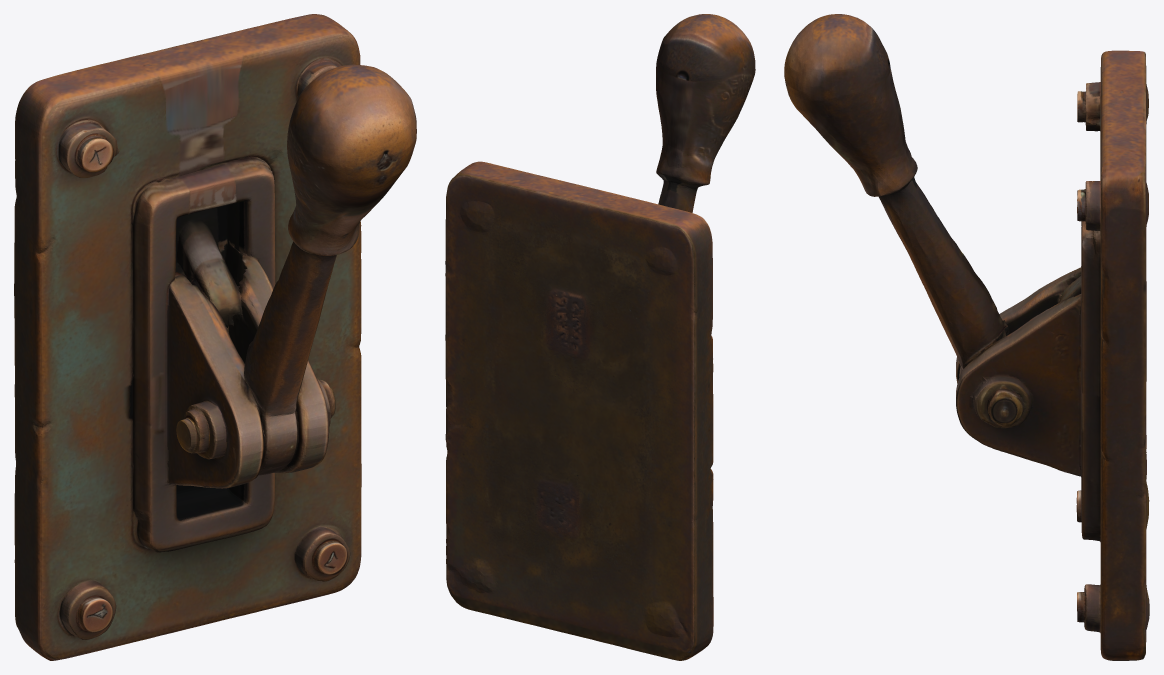
The model's file is Rustic_Power_Switch_0425124405_texture.fbx.
The picture shows the model from 3 angles, left to right: view 1: azimuth 30°, elevation 25°; view 2: azimuth 150°, elevation 25°; view 3: azimuth 270°, elevation 25°; orthographic projection. The views are drawn at different scales.
Parts seen in each view (by area): view 1: temp; view 2: temp; view 3: temp.
Part boxes in pixels (x1,y1,x2,y2): temp: (14, 14, 416, 660); temp: (445, 14, 755, 660); temp: (784, 14, 1149, 660).
Size of the model in its own units: 100 by 198 by 112.
Materials: 1 (1 with a texture image).
